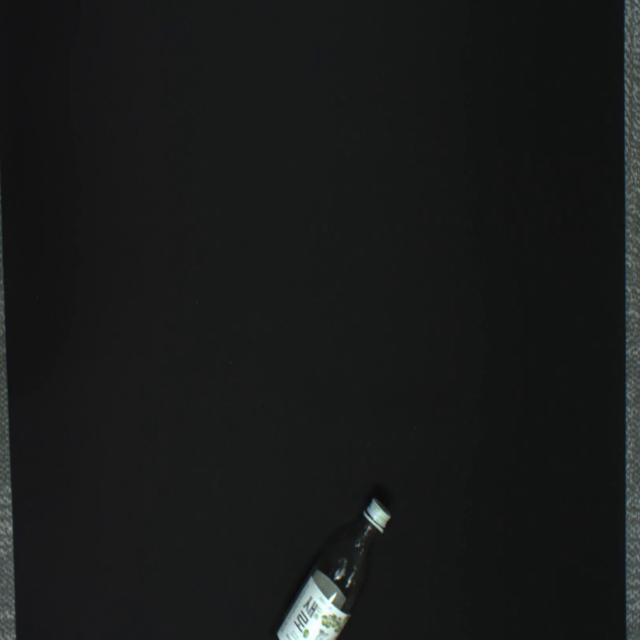soju-bottle: (272, 498, 392, 639)
